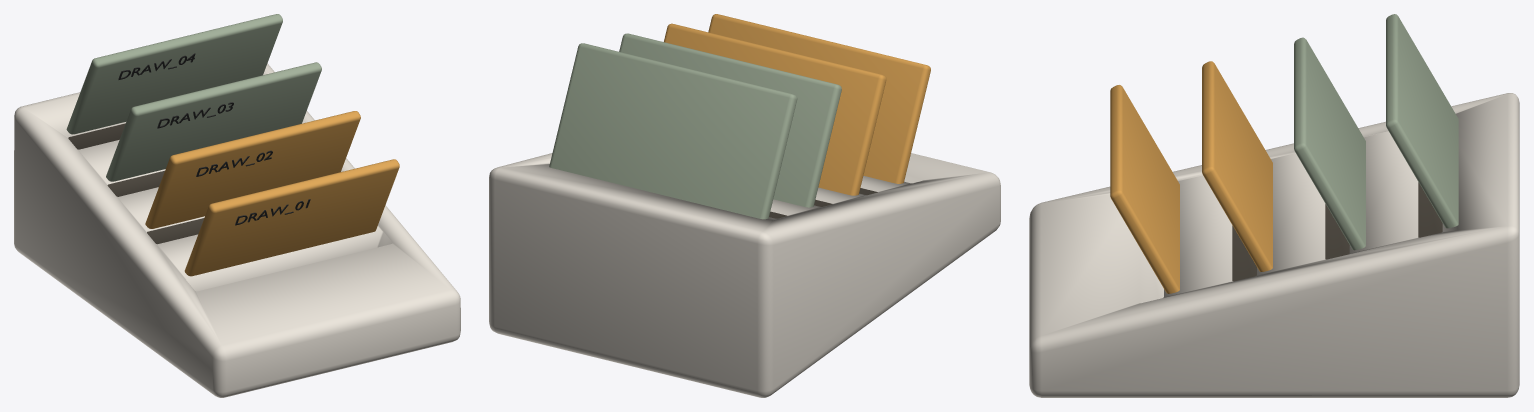
Rendered from vk_command_queue.glb.
The picture shows the model from 3 angles, left to right: view 1: azimuth 30°, elevation 25°; view 2: azimuth 150°, elevation 25°; view 3: azimuth 270°, elevation 25°; orthographic projection. The views are drawn at different scales.
Visible parts, largest first — view 1: QueueDispenser, CommandCard_0, CommandCard_3, CommandCard_2, CommandCard_1; view 2: QueueDispenser, CommandCard_3, CommandCard_2, CommandCard_1, CommandCard_0; view 3: QueueDispenser, CommandCard_3, CommandCard_2, CommandCard_1, CommandCard_0.
Part boxes in pixels (x1,y1,x2,y2): QueueDispenser: (14, 63, 460, 397); CommandCard_0: (184, 159, 399, 276); CommandCard_3: (66, 14, 282, 134); CommandCard_2: (106, 62, 321, 181); CommandCard_1: (145, 111, 360, 228); QueueDispenser: (489, 153, 1000, 397); CommandCard_3: (549, 43, 797, 219); CommandCard_2: (619, 33, 841, 207); CommandCard_1: (664, 23, 886, 195); CommandCard_0: (708, 14, 930, 183); QueueDispenser: (1029, 93, 1519, 397); CommandCard_3: (1386, 14, 1458, 228); CommandCard_2: (1294, 37, 1365, 250); CommandCard_1: (1202, 61, 1272, 271); CommandCard_0: (1110, 85, 1179, 293).
Size of the model in its own units: 2.2 by 1.9 by 3.2.
